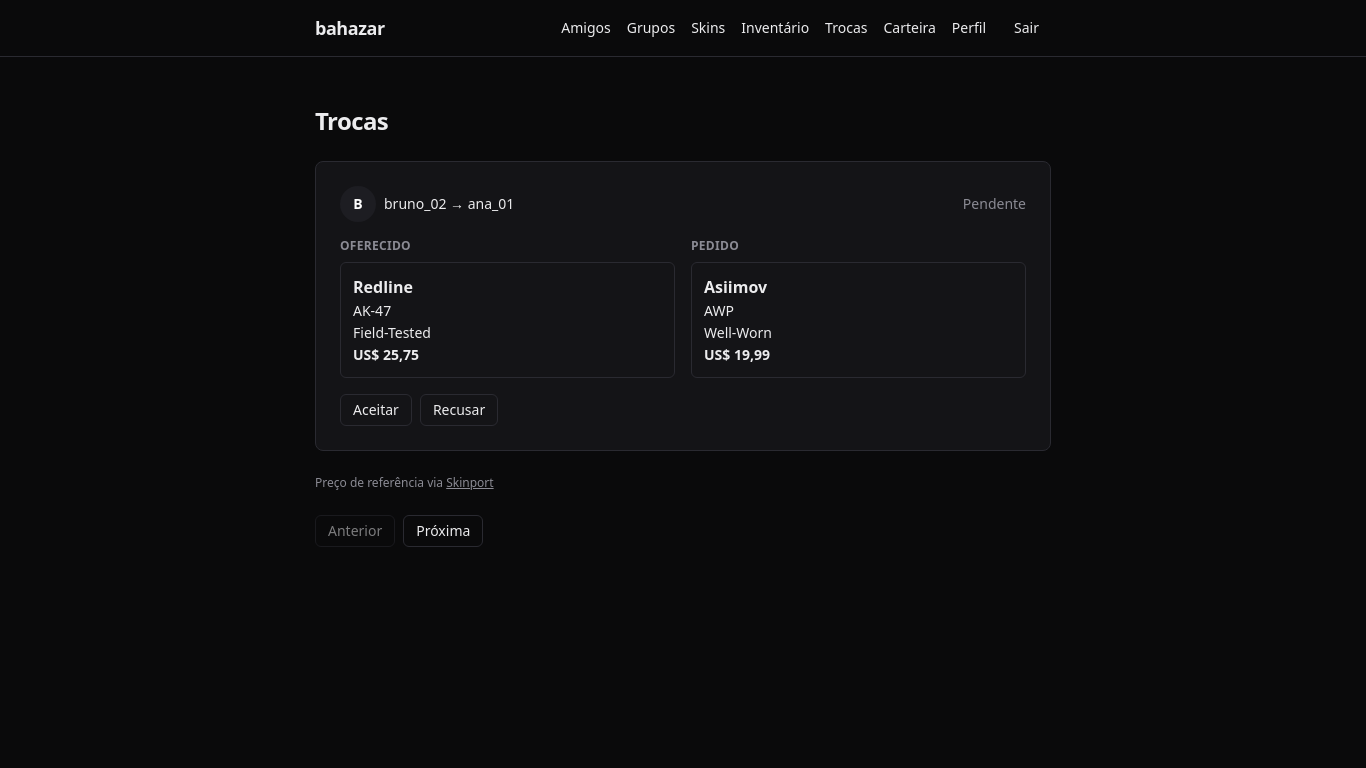
Test: TradesPage › duas páginas: 'Próxima' pede a página 2 e troca a lista; 'Anterior' começa desabilitado
Expected: the element named "Oferta de bruno_02 para ana_01" is shown, [315,161,1051,451]
Expected: the button "Anterior" is disabled, [315,515,395,547]
Click the button "Próxima".
click(443, 531)  # box [403,515,483,547]
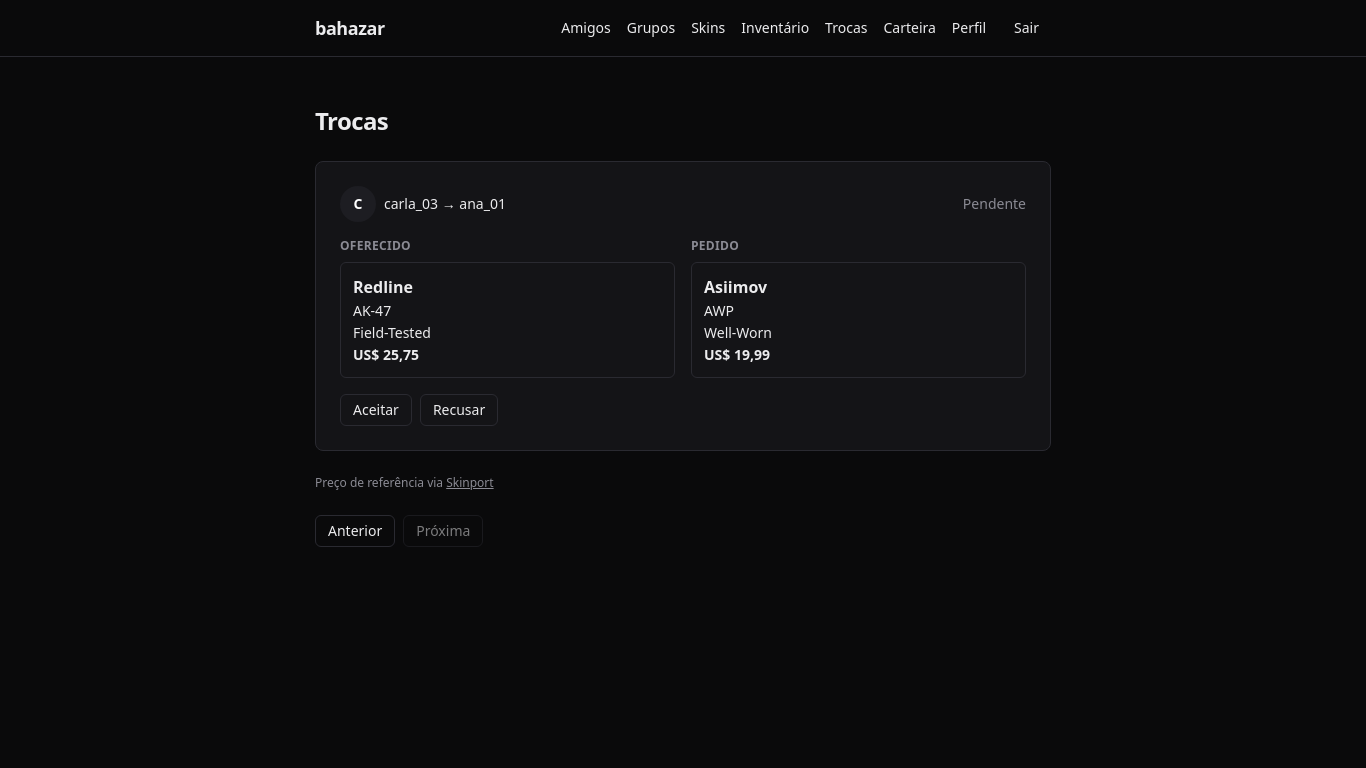
Expected: the element named "Oferta de carla_03 para ana_01" is shown, [315,161,1051,451]
Expected: the button "Próxima" is disabled, [403,515,483,547]
